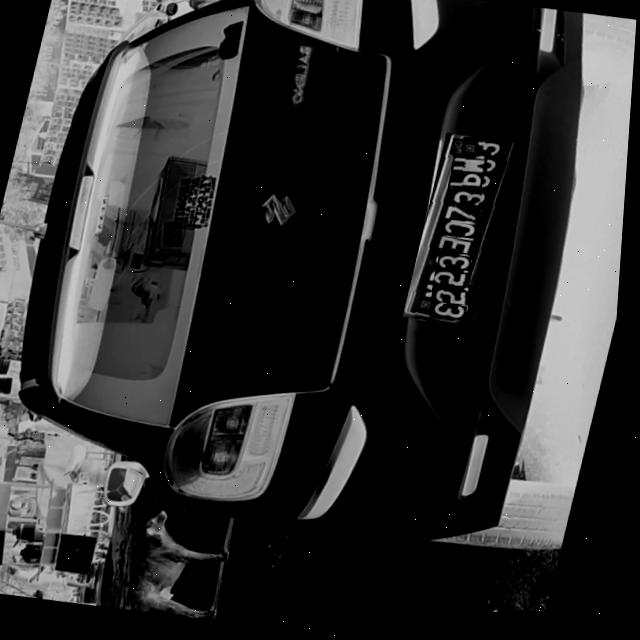0: (449, 190, 486, 211)
3: (433, 304, 472, 326), (440, 255, 476, 276)
5: (433, 287, 474, 311), (436, 270, 473, 294)
7: (446, 207, 484, 228)
C: (445, 223, 480, 244)
E: (441, 238, 478, 259)
IND: (452, 142, 482, 163)
Indian_registered: (413, 140, 516, 325)
M: (453, 157, 490, 180)
P: (450, 173, 487, 196)
